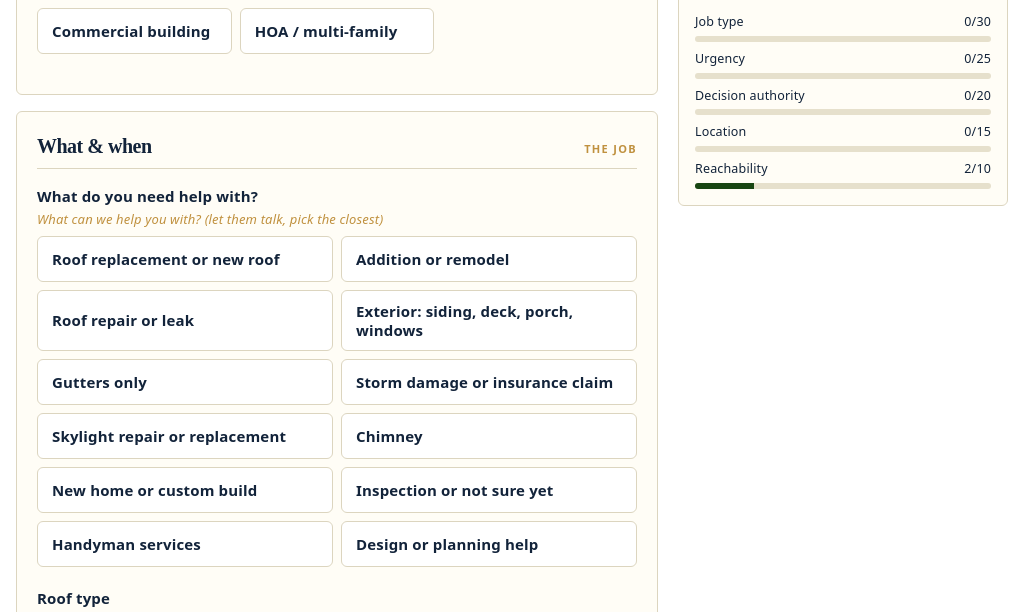
front desk sheet › asks for other work once a main job is picked, and allows several
The image size is (1024, 612).
(page scrolled)
Click the button "Roof repair or leak".
click(185, 321)  # box [37, 290, 333, 351]
(page scrolled)
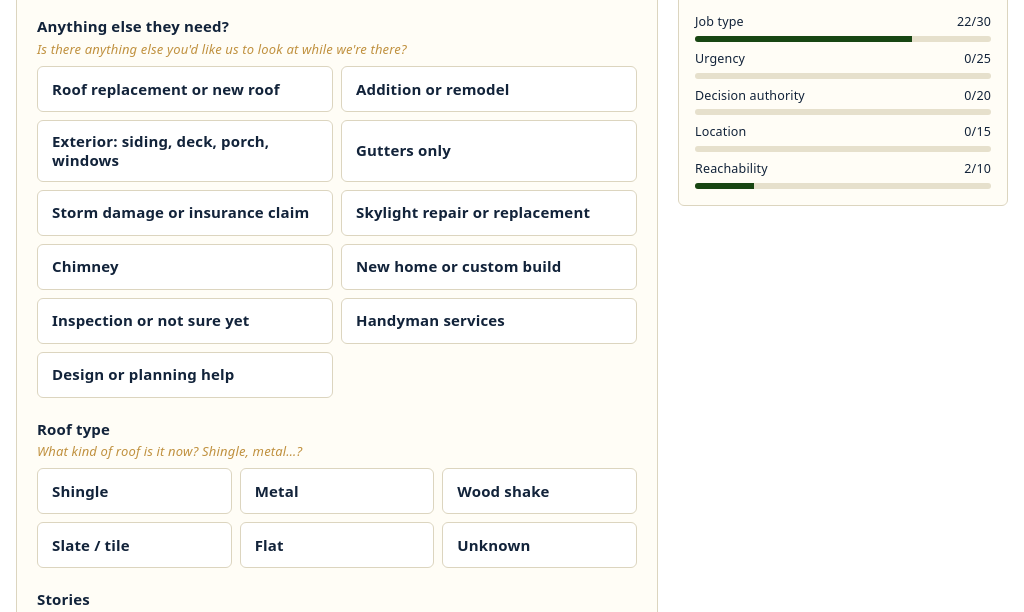
Expected: the button "Roof repair or leak" is not shown
Click the button "Handyman services" below "Anything else they need?".
click(489, 321)  # box [341, 298, 637, 344]
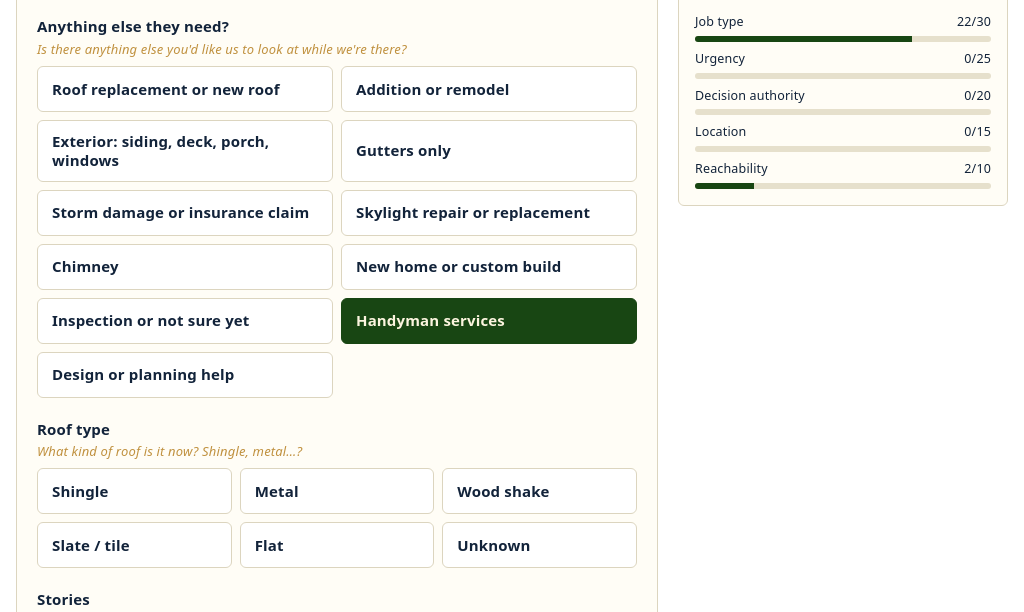
Result: the button "Handyman services" below "Anything else they need?" is pressed at [341, 298, 637, 344]
Click the button "Design or planning help" below "Anything else they need?".
click(185, 375)  # box [37, 352, 333, 398]
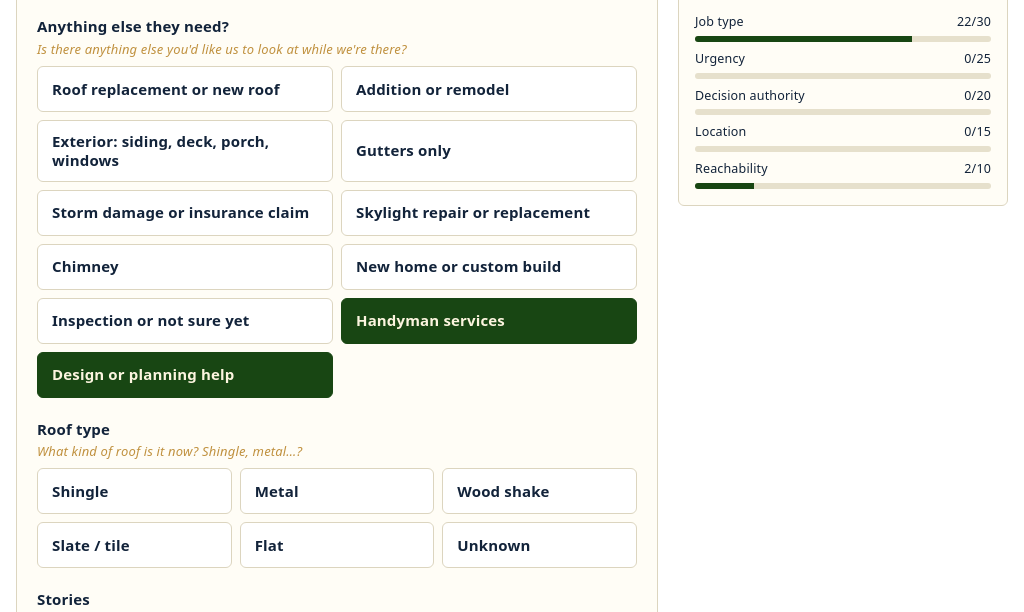
Result: the button "Design or planning help" below "Anything else they need?" is pressed at [37, 352, 333, 398]
Click the button "Handyman services" below "Anything else they need?".
click(489, 321)  # box [341, 298, 637, 344]
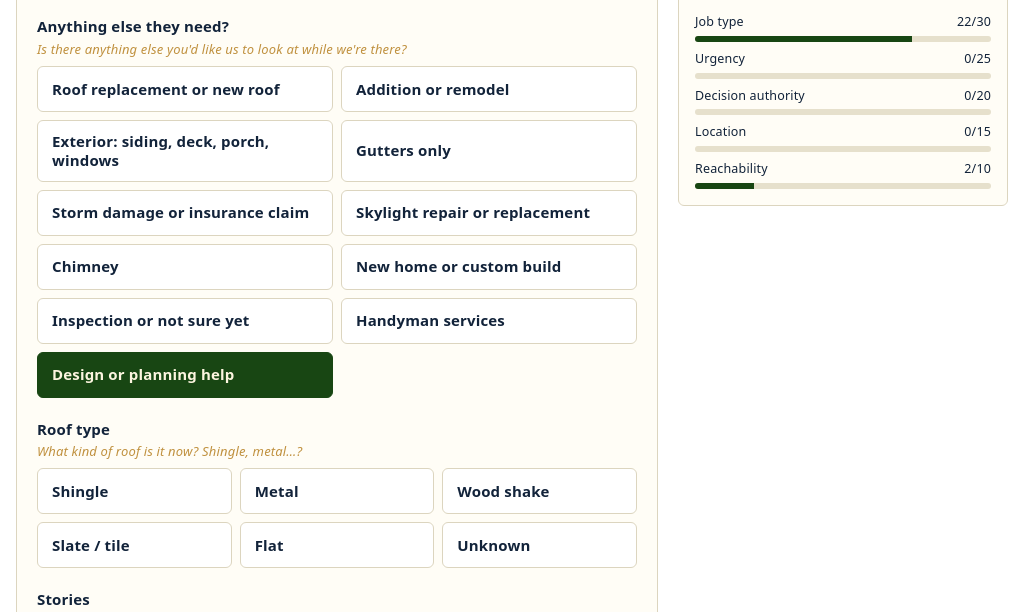
Result: the button "Handyman services" below "Anything else they need?" is not pressed at [341, 298, 637, 344]
